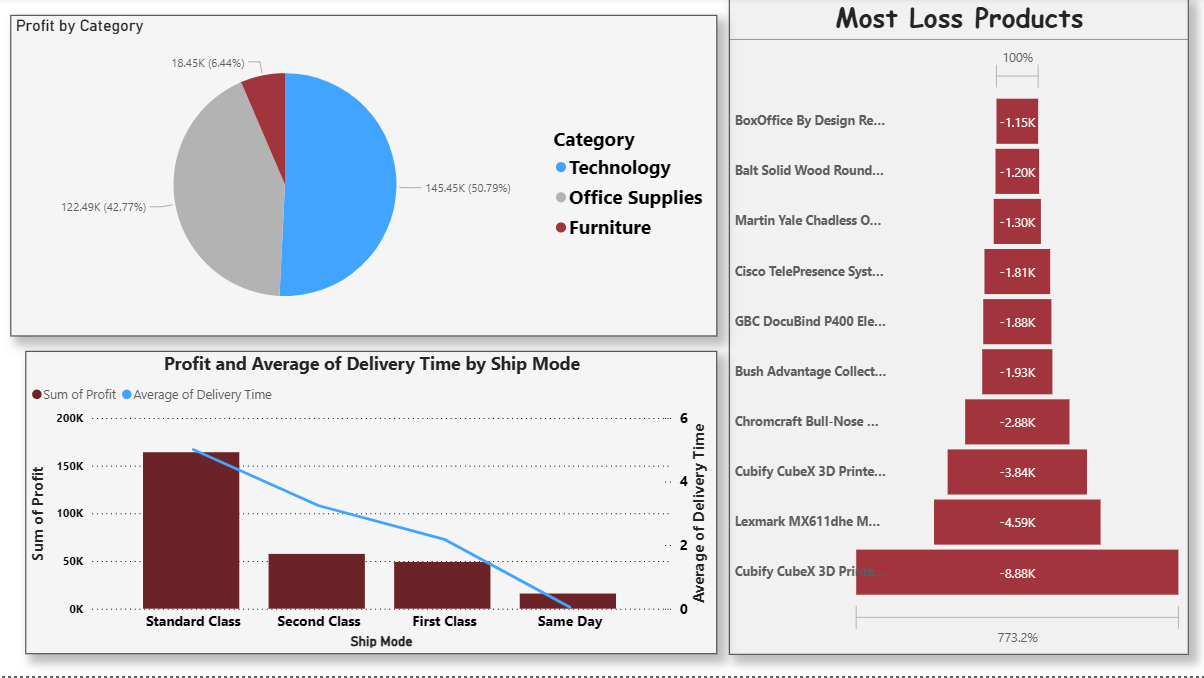

What the dashboard file says about the page in this screenshot:
{"tool":"powerbi","page":{"name":"Page 2","canvas":[1280,720],"ordinal":1},"visuals":[{"type":"funnel","title":"Most Loss Products","fields":{"Category":["Sample - Superstore.Product Name"],"Y":["Sum(Sample - Superstore.Profit)"]},"box":[772.9,0,487.6,697.3],"z":0},{"type":"pieChart","title":" Profit by Category","fields":{"Category":["Sample - Superstore.Category"],"Y":["Sum(Sample - Superstore.Profit)"]},"box":[11.1,19.1,749.2,340.4],"z":1000},{"type":"lineStackedColumnComboChart","title":" Profit and Average of Delivery Time by Ship Mode","fields":{"Category":["Sample - Superstore.Ship Mode"],"Y":["Sum(Sample - Superstore.Profit)"],"Y2":["Avg(Sample - Superstore.Delivery Time)"]},"box":[26.5,376.1,733.2,321.3],"z":2000}]}

Visuals, with their boxes in screenshot pixels (x1, y1, x2, y2), scaled from the page's 1280x720 canvas onto the 1204x678 screenshot:
"Most Loss Products" funnel: (727,0,1186,657)
" Profit by Category" pieChart: (10,18,715,339)
" Profit and Average of Delivery Time by Ship Mode" lineStackedColumnComboChart: (25,354,715,657)
